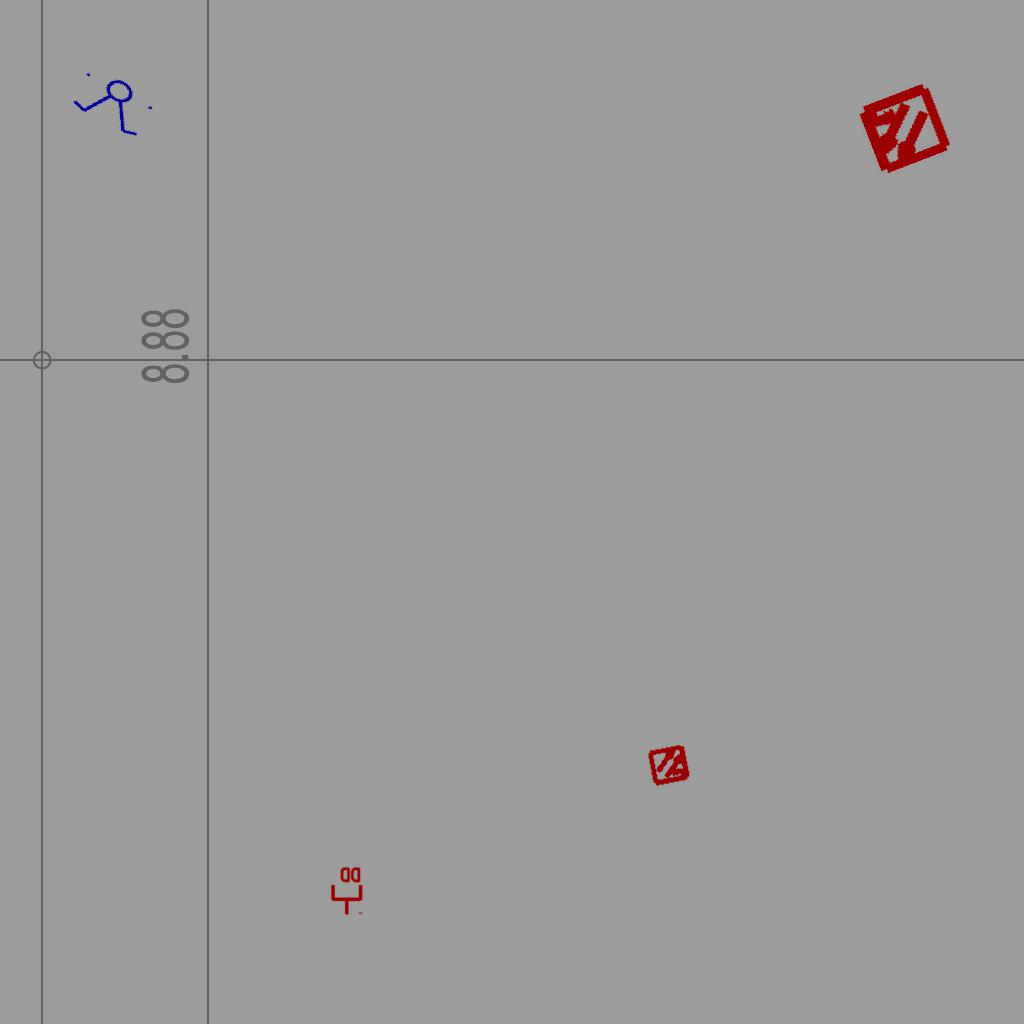Datenanschluss_zweifach: (329, 865, 363, 916)
OT_Multisensormelder_(Kombination_RMO_WMD): (829, 56, 976, 203), (637, 732, 703, 798)
Serienschalter: (65, 62, 163, 144)
